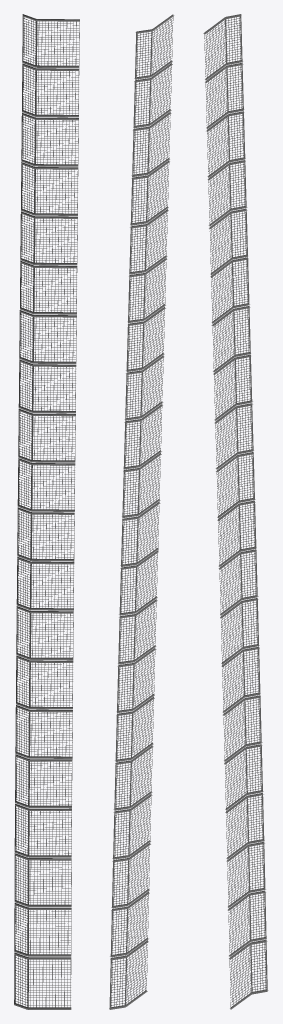
The model's file is _1WALL_small01_05_SUB1.obj.
3 renders of one model, left to right at view 1: azimuth 90°, elevation 25°; view 2: azimuth 150°, elevation 25°; view 3: azimuth 330°, elevation 25°, orthographic. The views are drawn at different scales.
Parts seen in each view (by area): view 1: _1WALL_small01_05_SUB1_Scene.310; view 2: _1WALL_small01_05_SUB1_Scene.310; view 3: _1WALL_small01_05_SUB1_Scene.310.
Part boxes in pixels (x1,y1,x2,y2): _1WALL_small01_05_SUB1_Scene.310: [14, 14, 79, 1009]; _1WALL_small01_05_SUB1_Scene.310: [109, 14, 174, 1009]; _1WALL_small01_05_SUB1_Scene.310: [203, 14, 268, 1009].
Size of the model in its own units: 146 by 4018 by 239.
